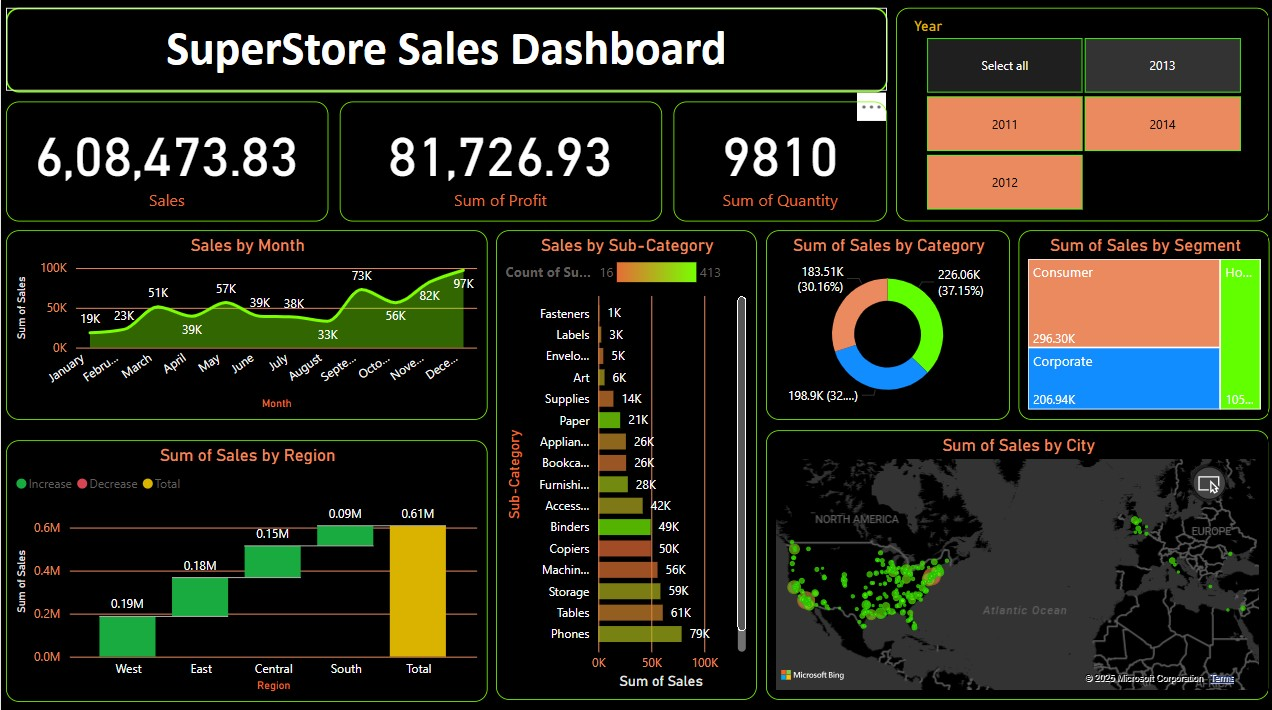

What the dashboard file says about the page in this screenshot:
{"tool":"powerbi","page":{"name":"Page 1","canvas":[1280,720],"ordinal":0},"visuals":[{"type":"textbox","box":[4.7,8.1,881.4,84.9],"z":0},{"type":"lineChart","title":"Month","fields":{"Category":["Database.Order Date.Variation.Date Hierarchy.Month"],"Y":["Sum(Database.Sales)"]},"box":[4.7,231.4,481.4,189.5],"z":1000},{"type":"clusteredBarChart","title":"Sub-Category","fields":{"Category":["Database.Sub-Category"],"Y":["Sum(Database.Sales)"]},"box":[495.4,231.4,260.5,469.8],"z":2000},{"type":"map","title":"Sales by City","fields":{"Category":["Database.City"],"Size":["Sum(Database.Sales)"]},"box":[765.1,431.4,503.5,269.8],"z":3000},{"type":"waterfallChart","title":"Sales by Region","fields":{"Category":["Database.Region"],"Y":["Sum(Database.Sales)"]},"box":[4.7,441.9,481.4,261.6],"z":4000},{"type":"donutChart","title":"Sales by Category","fields":{"Category":["Database.Category"],"Y":["Sum(Database.Sales)"]},"box":[765.1,231.4,244.2,189.5],"z":5000},{"type":"treemap","title":"Sales by Segment","fields":{"Group":["Database.Segment"],"Values":["Sum(Database.Sales)"]},"box":[1017.4,231.4,252.3,189.5],"z":6000},{"type":"card","fields":{"Values":["Sum(Database.Sales)"]},"box":[4.7,102.3,322.1,119.8],"z":7000},{"type":"card","fields":{"Values":["Sum(Database.Profit)"]},"box":[338.4,102.3,322.1,119.8],"z":8000},{"type":"card","fields":{"Values":["Sum(Database.Quantity)"]},"box":[672.1,102.3,214,119.8],"z":9000},{"type":"slicer","fields":{"Values":["Database.Order Date.Variation.Date Hierarchy.Year"]},"box":[895.4,8.1,373.3,214],"z":10000}]}

Visuals, with their boxes in screenshot pixels (x1, y1, x2, y2), scaled from the page's 1280x720 canvas onto the 1272x710 screenshot:
textbox: detection(5, 8, 881, 92)
"Month" lineChart: detection(5, 228, 483, 415)
"Sub-Category" clusteredBarChart: detection(492, 228, 751, 691)
"Sales by City" map: detection(760, 425, 1261, 691)
"Sales by Region" waterfallChart: detection(5, 436, 483, 694)
"Sales by Category" donutChart: detection(760, 228, 1003, 415)
"Sales by Segment" treemap: detection(1011, 228, 1262, 415)
card - Sum(Database.Sales): detection(5, 101, 325, 219)
card - Sum(Database.Profit): detection(336, 101, 656, 219)
card - Sum(Database.Quantity): detection(668, 101, 881, 219)
slicer - Database.Order Date.Variation.Date Hierarchy.Year: detection(890, 8, 1261, 219)
